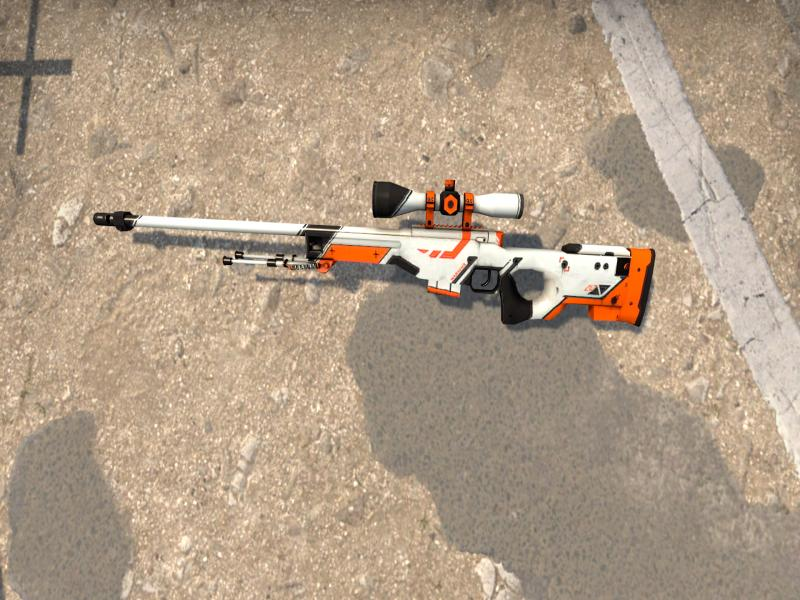AWP: (93, 179, 656, 325)
